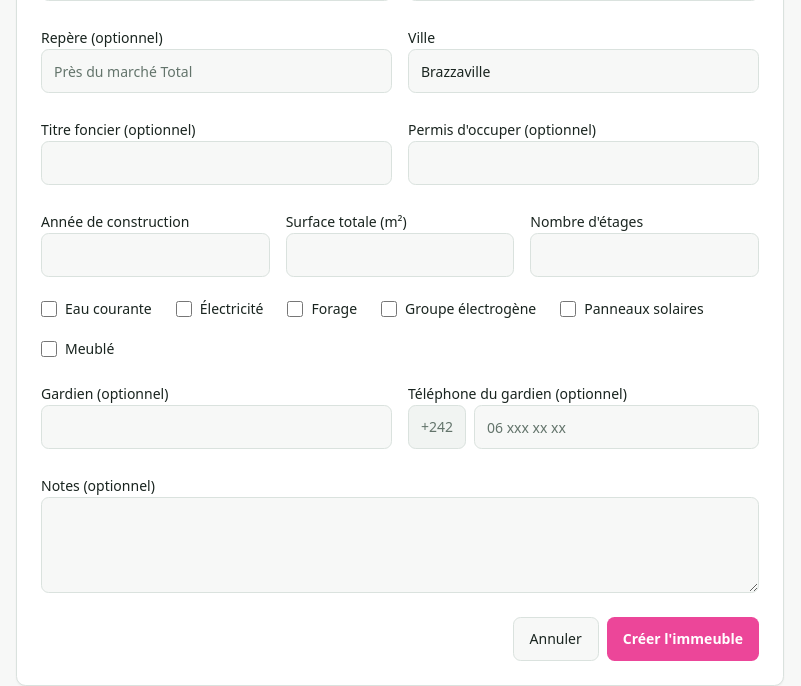
Test case: NouvelImmeublePage — meubles et équipements › affiche le champ quantité seulement pour un meuble coché, avec un libellé explicite
(page scrolled)
Click the checkbox labelled "Meublé" at (49, 349), box [41,341,57,357]
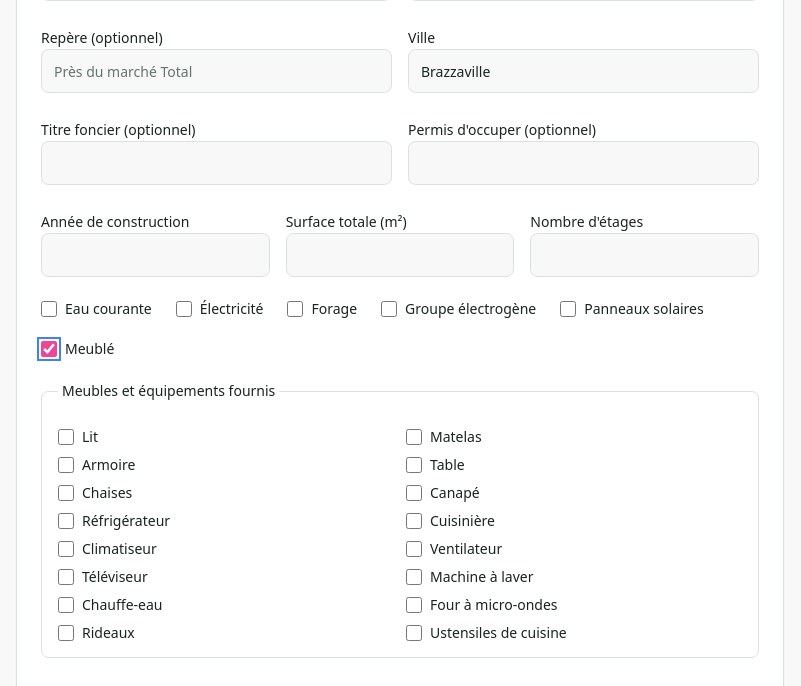
Click the checkbox labelled "Lit" at (66, 437), box [58,429,74,445]
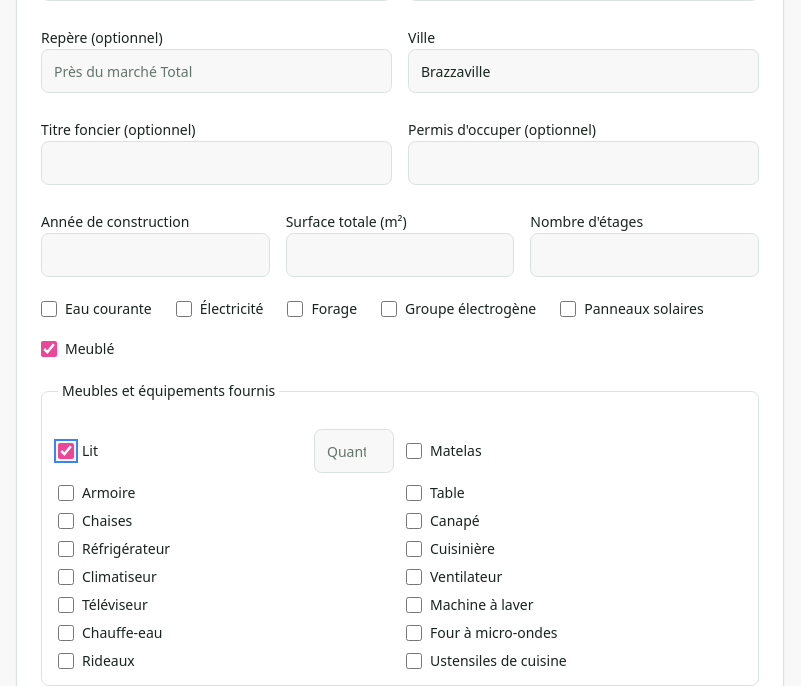
Expected: the number field named "Quantité — Lit" is shown, [314,429,394,473]
